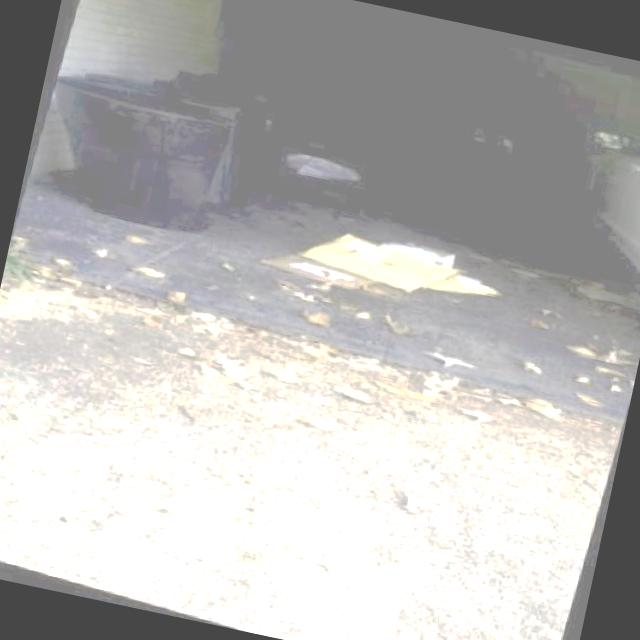Box: (294, 220, 461, 304), (257, 245, 377, 298), (422, 266, 503, 310), (374, 233, 457, 269)
